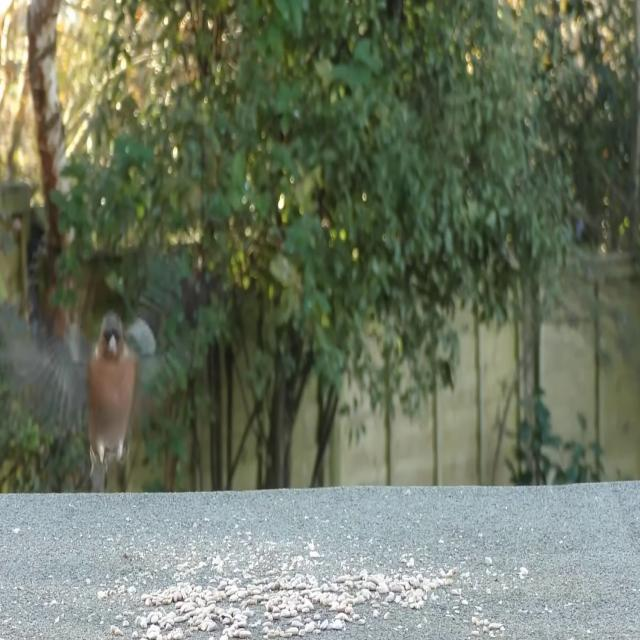beak: (107, 338, 121, 358)
bird: (0, 282, 180, 470)
